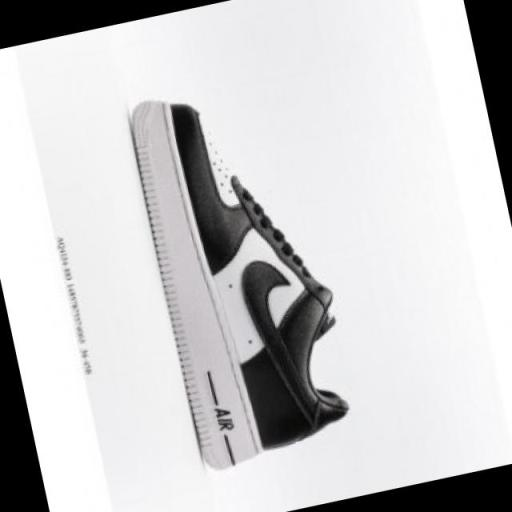Nike: (238, 246, 324, 436)
